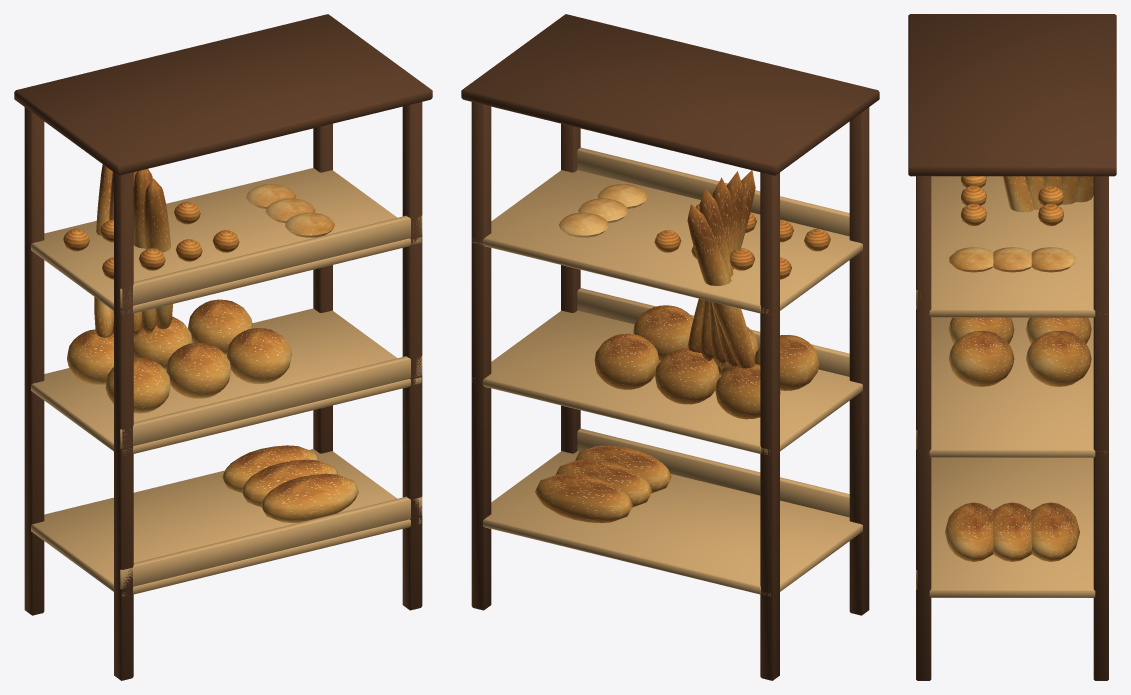
Rendered from buffet_bakery_display_stand.glb.
The picture shows the model from 3 angles, left to right: view 1: azimuth 30°, elevation 25°; view 2: azimuth 150°, elevation 25°; view 3: azimuth 270°, elevation 25°; orthographic projection.
Visible parts, largest first — view 1: buffet_bakery_display_stand; view 2: buffet_bakery_display_stand; view 3: buffet_bakery_display_stand.
Part boxes in pixels (x1,y1,x2,y2): buffet_bakery_display_stand: [14, 14, 432, 680]; buffet_bakery_display_stand: [461, 14, 879, 680]; buffet_bakery_display_stand: [908, 14, 1116, 680].
Bounding box in the file's own units: 0.94 × 1.48 × 0.54.
Materials: 5 (3 with a texture image).
